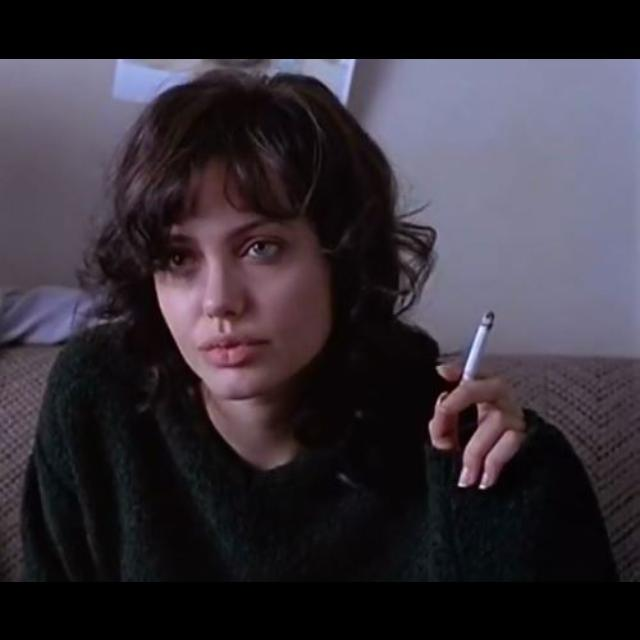rokok: (456, 306, 496, 392)
